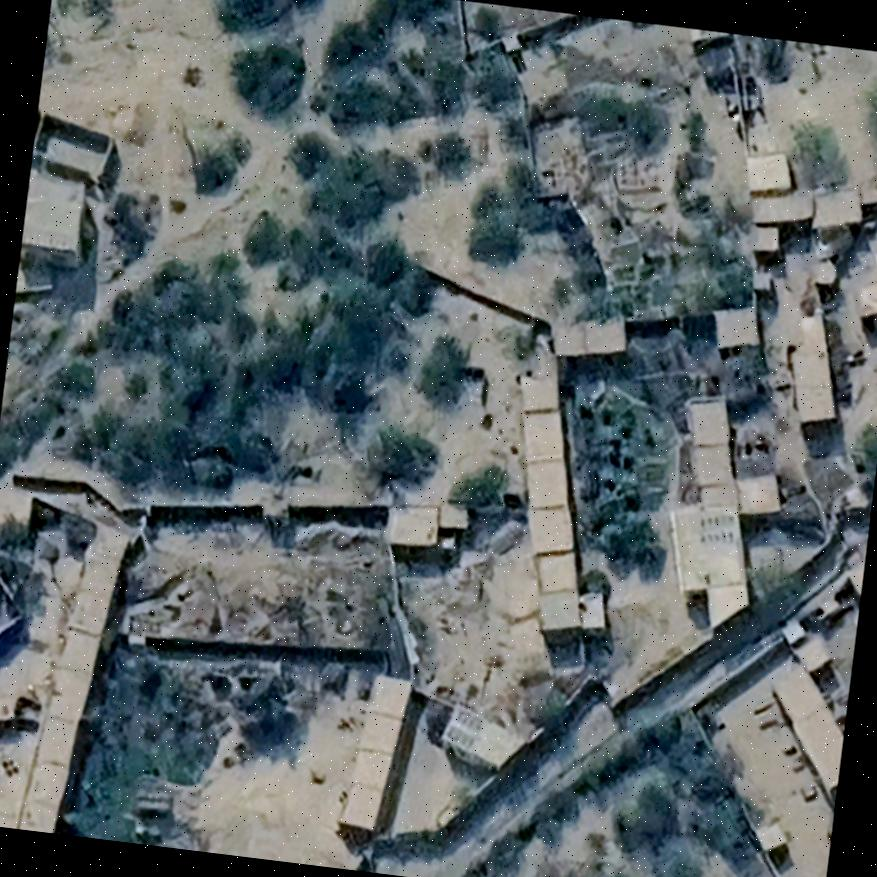Solarpanel: (692, 511, 737, 544)
